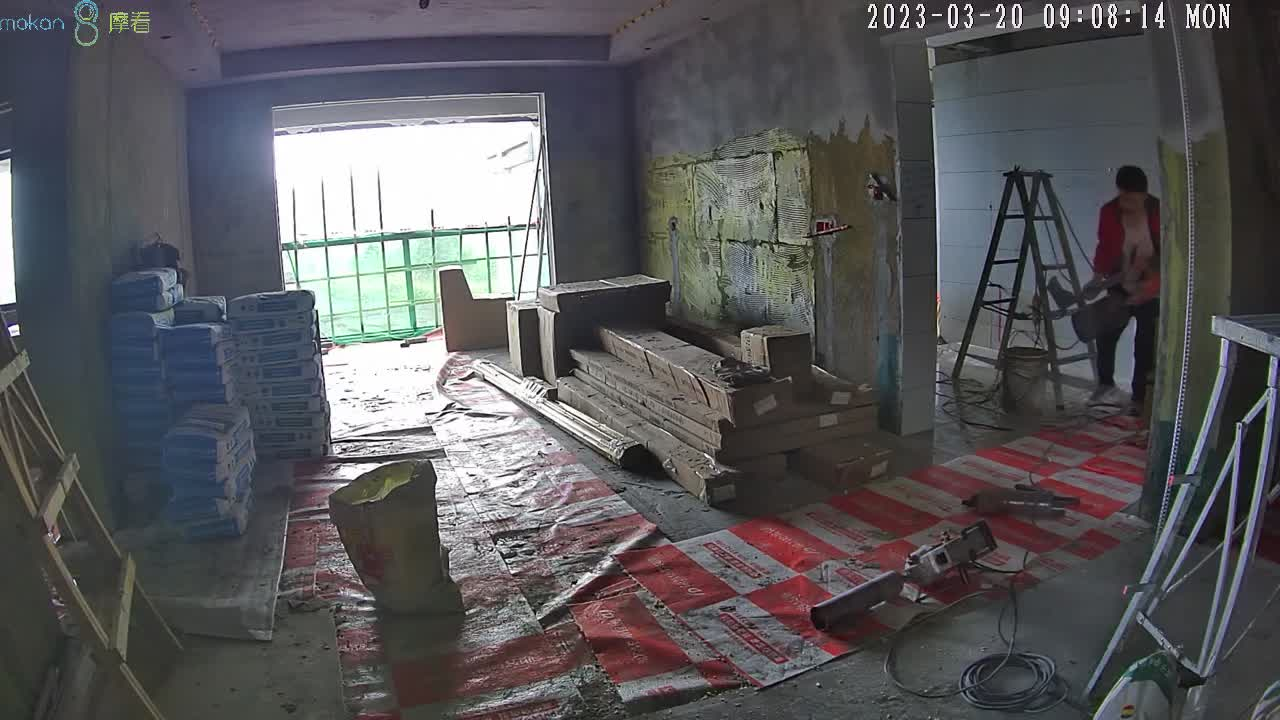people: (1089, 166, 1158, 416)
window: (271, 117, 550, 333)
